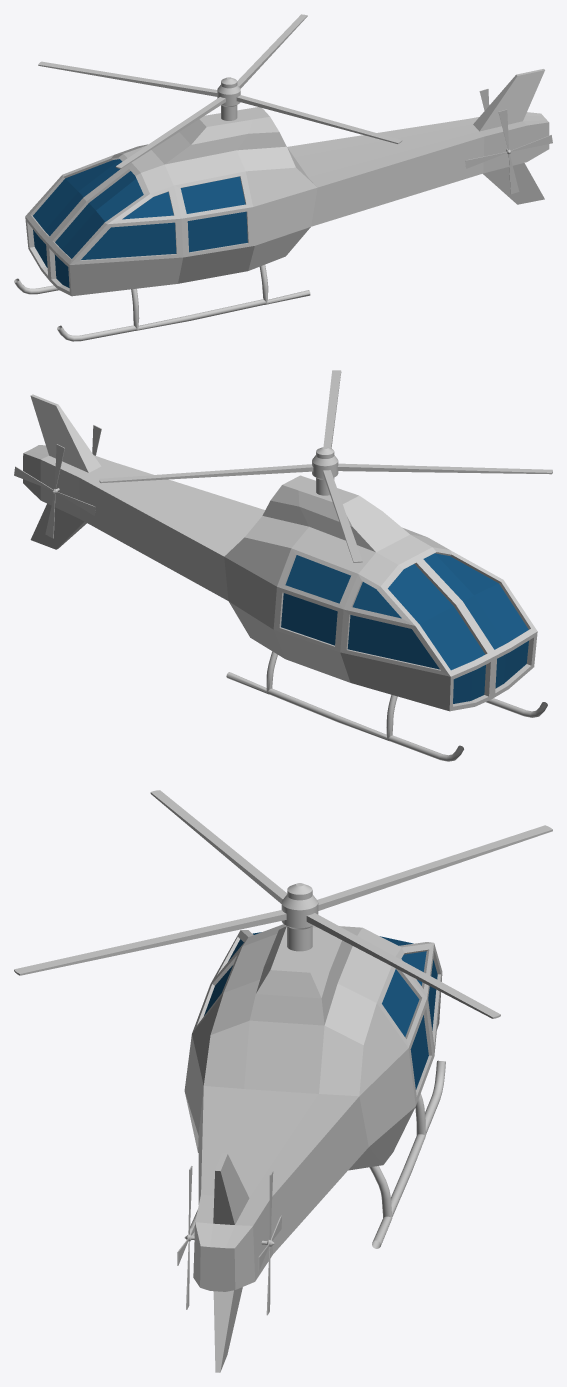
Rendered from helicopter_animation_000217.obj.
3 views of the same model, one above another, from view 1: azimuth 30°, elevation 25°; view 2: azimuth 150°, elevation 25°; view 3: azimuth 270°, elevation 25° (orthographic). The views are drawn at different scales.
Visible parts, largest first — view 1: Helicopter.007_Cylinder.008, Helicopter.001_Cylinder.001, Helicopter.003_Cylinder.004; view 2: Helicopter.007_Cylinder.008, Helicopter.001_Cylinder.001, Helicopter.004_Cylinder.005; view 3: Helicopter.007_Cylinder.008, Helicopter.001_Cylinder.001, Helicopter.004_Cylinder.005.
Boxes of the visible parts, x1,y1,x2,y2 form: Helicopter.007_Cylinder.008: [14, 69, 549, 341]; Helicopter.001_Cylinder.001: [38, 14, 402, 168]; Helicopter.003_Cylinder.004: [465, 109, 552, 194]; Helicopter.007_Cylinder.008: [23, 394, 547, 761]; Helicopter.001_Cylinder.001: [99, 370, 552, 562]; Helicopter.004_Cylinder.005: [14, 444, 95, 538]; Helicopter.007_Cylinder.008: [184, 924, 445, 1372]; Helicopter.001_Cylinder.001: [14, 790, 552, 1018]; Helicopter.004_Cylinder.005: [258, 1171, 281, 1315].
Bounding box in the file's own units: 7.56 × 3.2 × 4.74.
